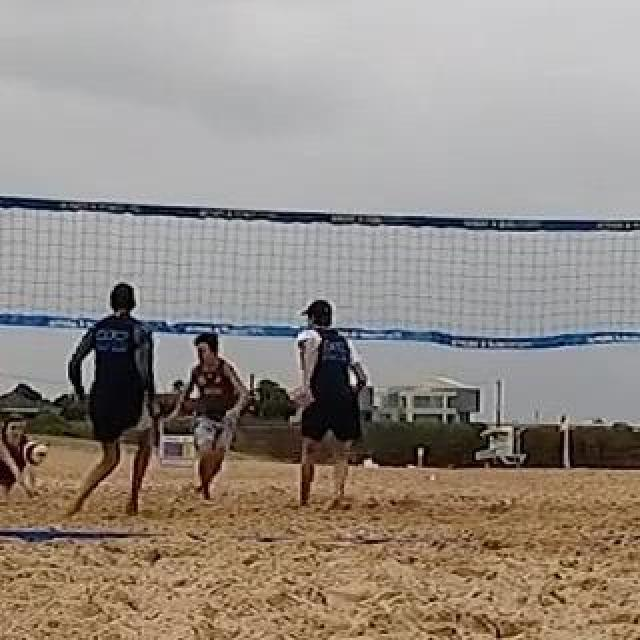volleyball: (26, 443, 46, 465)
